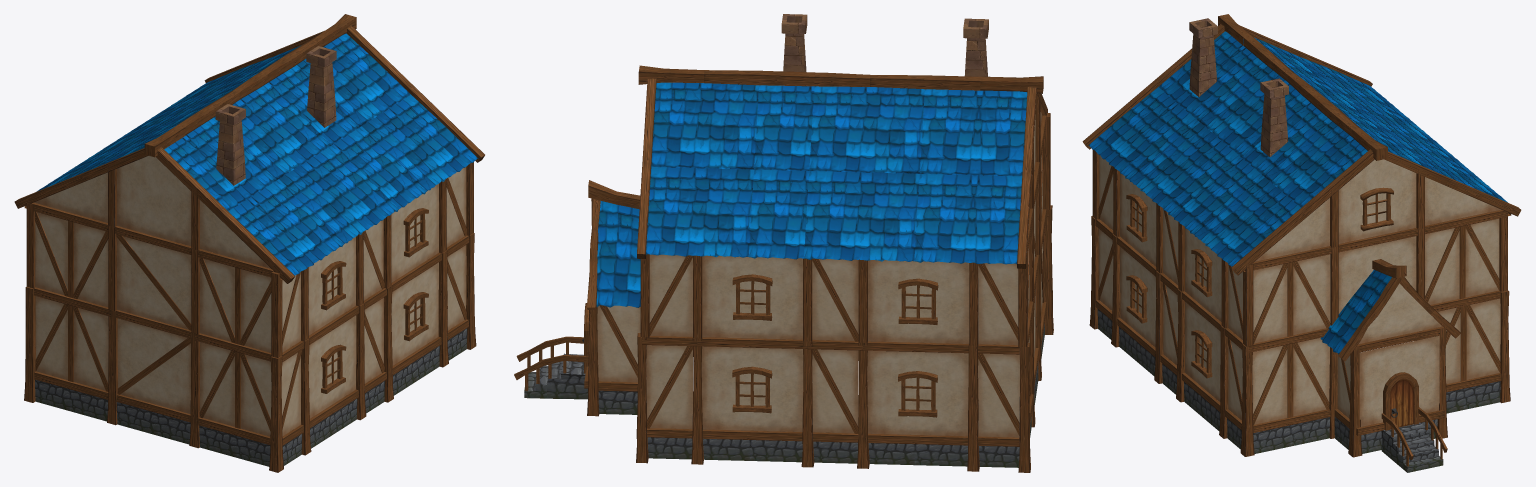
File: house1.glb
3 renders of one model, left to right at view 1: azimuth 30°, elevation 25°; view 2: azimuth 150°, elevation 25°; view 3: azimuth 270°, elevation 25°, orthographic. The views are drawn at different scales.
Visible parts, largest first — view 1: BH8; view 2: BH8; view 3: BH8.
Part boxes in pixels (bbox=[...]): BH8: bbox=[14, 14, 484, 472]; BH8: bbox=[514, 14, 1053, 472]; BH8: bbox=[1082, 14, 1521, 472].
Size of the model in its own units: 3.85 by 2.66 by 3.45.
2 materials, 2 textured.
